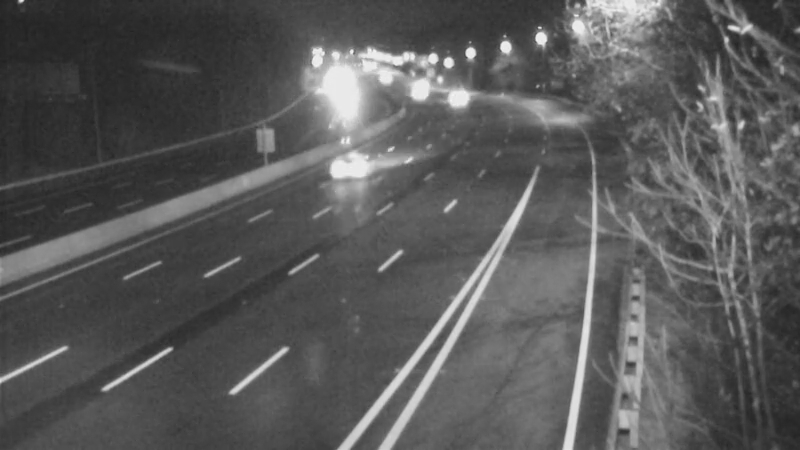vehicle: (311, 128, 391, 208), (356, 52, 406, 102), (395, 69, 445, 119), (426, 68, 476, 118)
